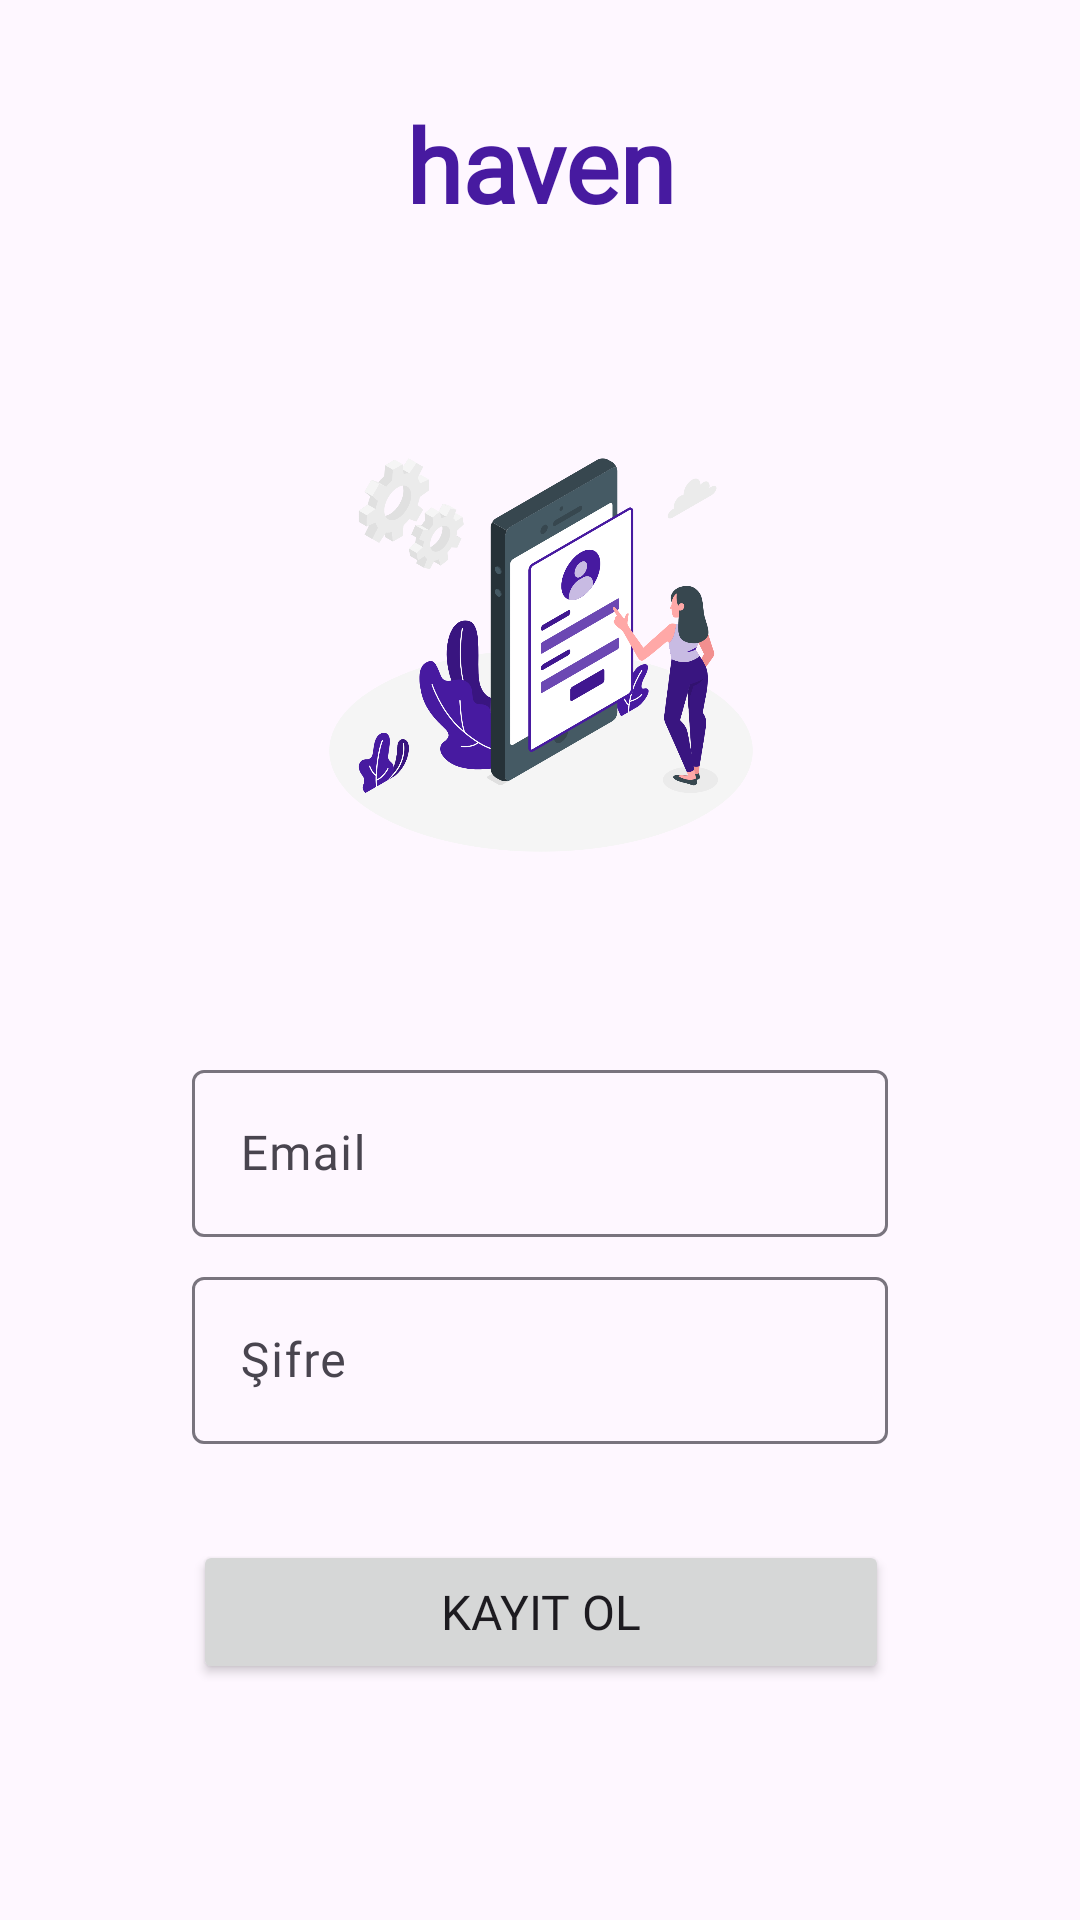

Named icons in this screenshot (1080 × 1920) and their centers, point (x, y):
sign up: point (536, 625)
